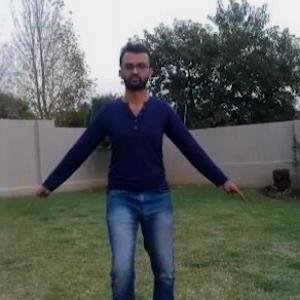land: (7, 33, 270, 299)
